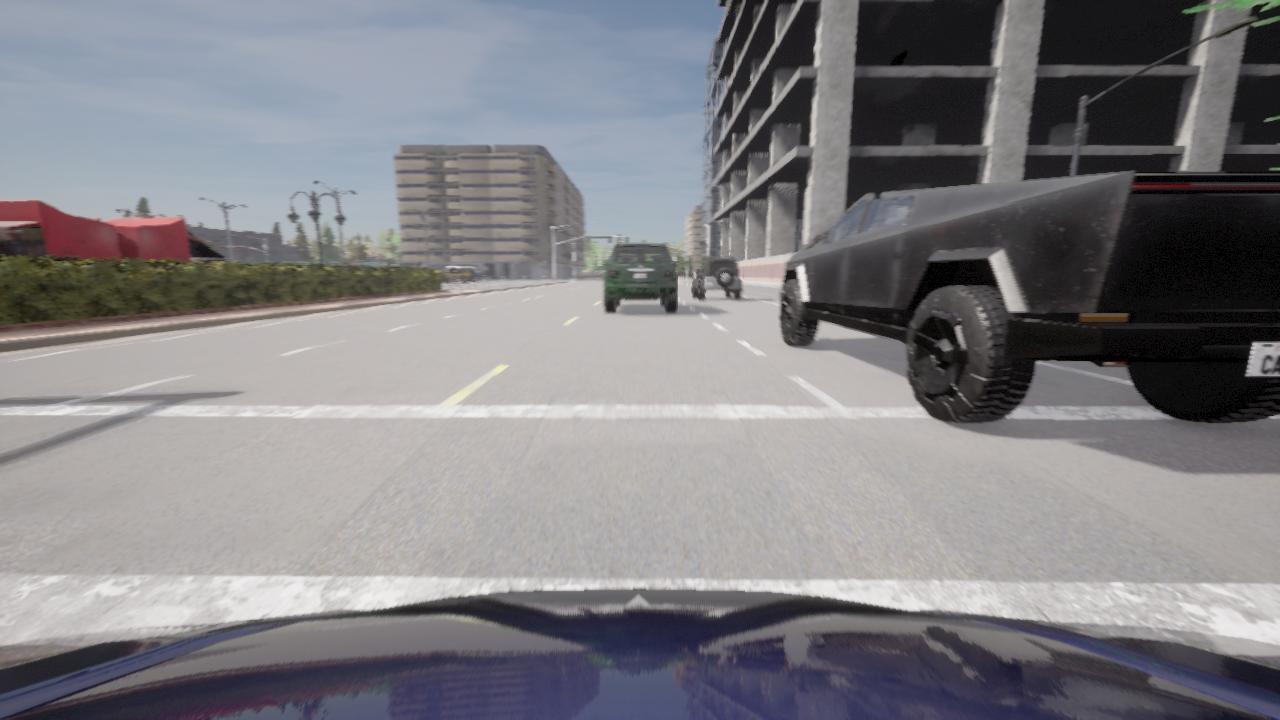cyclist: (0, 588, 1279, 719), (779, 171, 1279, 423), (604, 243, 676, 312), (693, 257, 742, 299), (446, 266, 483, 281), (442, 269, 476, 282)
